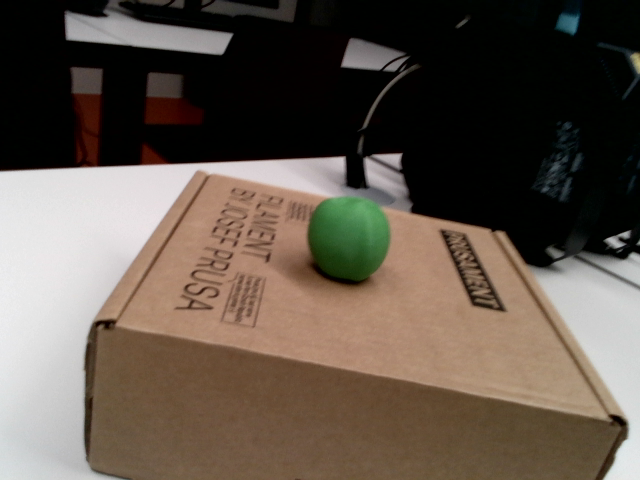green apple: (304, 193, 393, 285)
